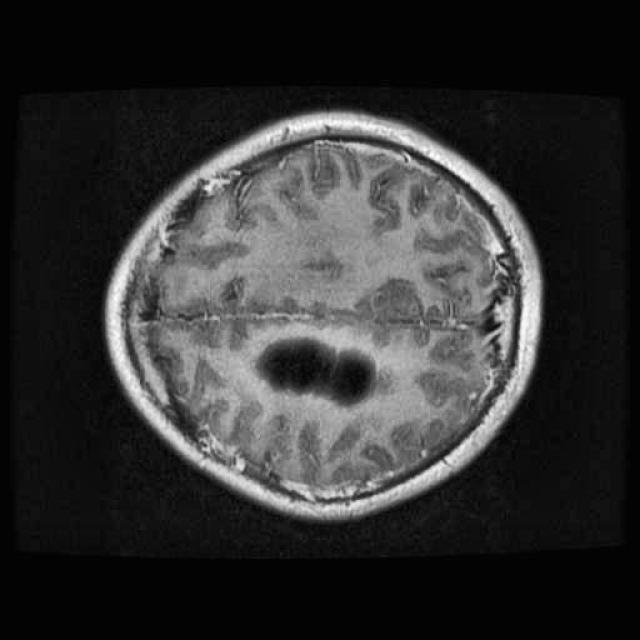Non-Tumor: (240, 318, 388, 421)
